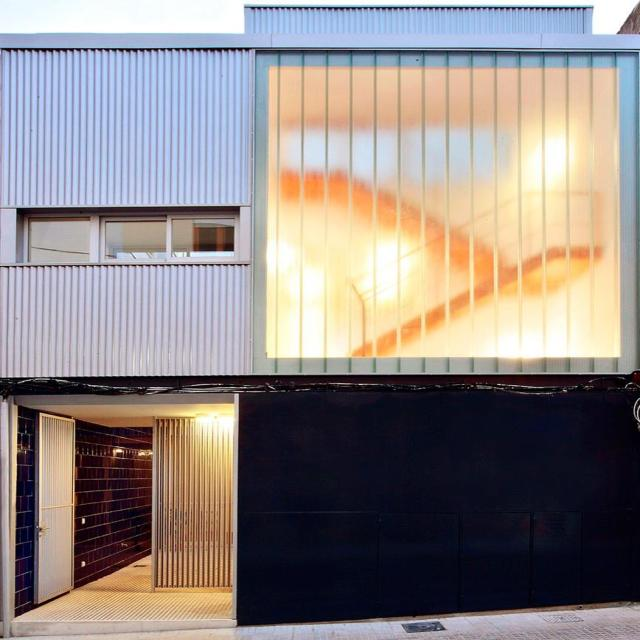door: (157, 407, 239, 588)
wall: (1, 5, 639, 634)
windows: (269, 66, 619, 358), (28, 214, 235, 264)
